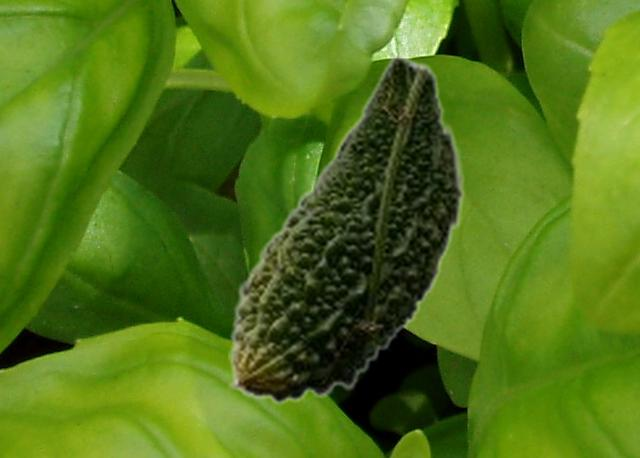ampalaya: (228, 54, 465, 404)
